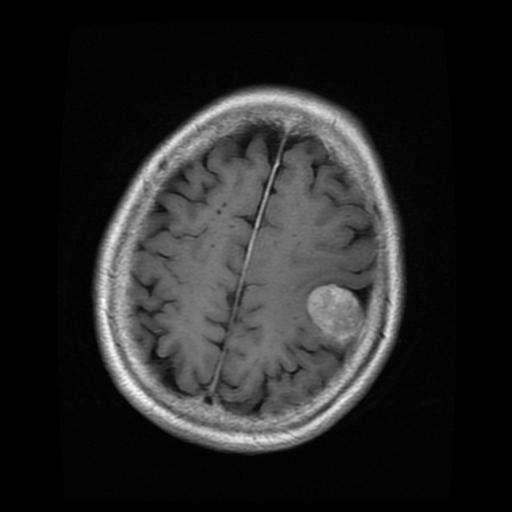Tumour-Meningioma: (287, 284, 385, 358)
